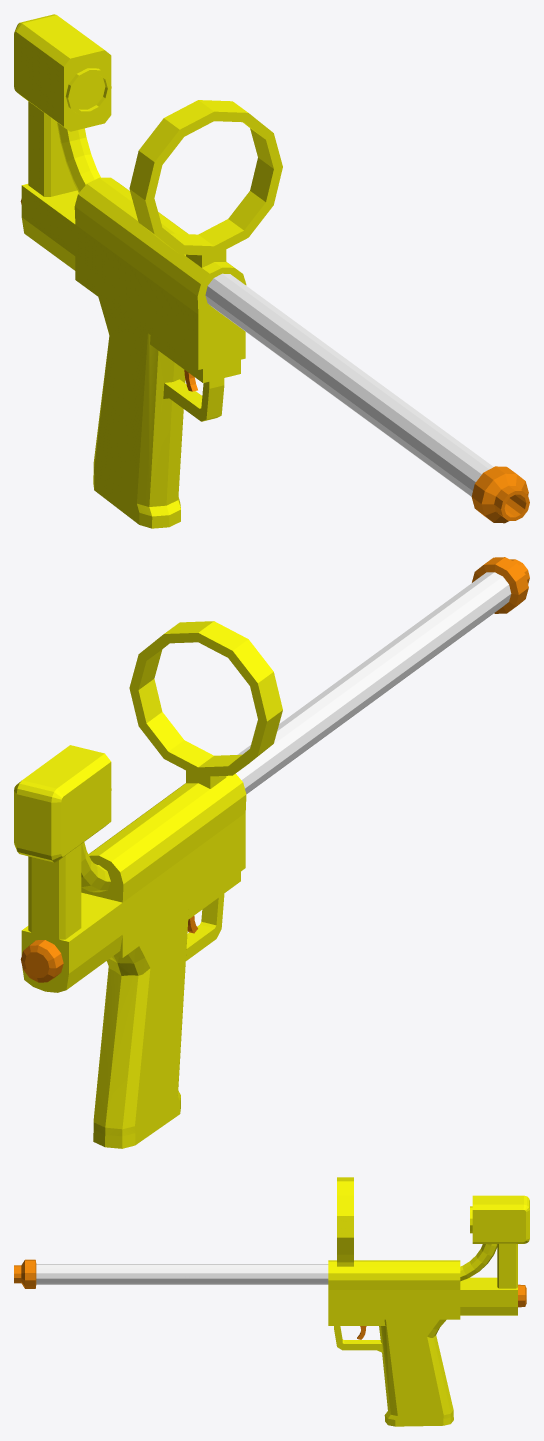
The model's file is Proto_Water_Gun_Body_01.fbx.
The picture shows the model from 3 angles, top to bottom: view 1: azimuth 30°, elevation 25°; view 2: azimuth 150°, elevation 25°; view 3: azimuth 270°, elevation 25°; orthographic projection. The views are drawn at different scales.
Parts seen in each view (by area): view 1: Proto_Water_Gun_Body_01; view 2: Proto_Water_Gun_Body_01; view 3: Proto_Water_Gun_Body_01.
Part boxes in pixels (bbox=[...]): Proto_Water_Gun_Body_01: bbox=[14, 14, 529, 528]; Proto_Water_Gun_Body_01: bbox=[14, 557, 529, 1148]; Proto_Water_Gun_Body_01: bbox=[14, 1177, 529, 1426].
Size of the model in its own units: 0.097 by 0.302 by 0.5878.
